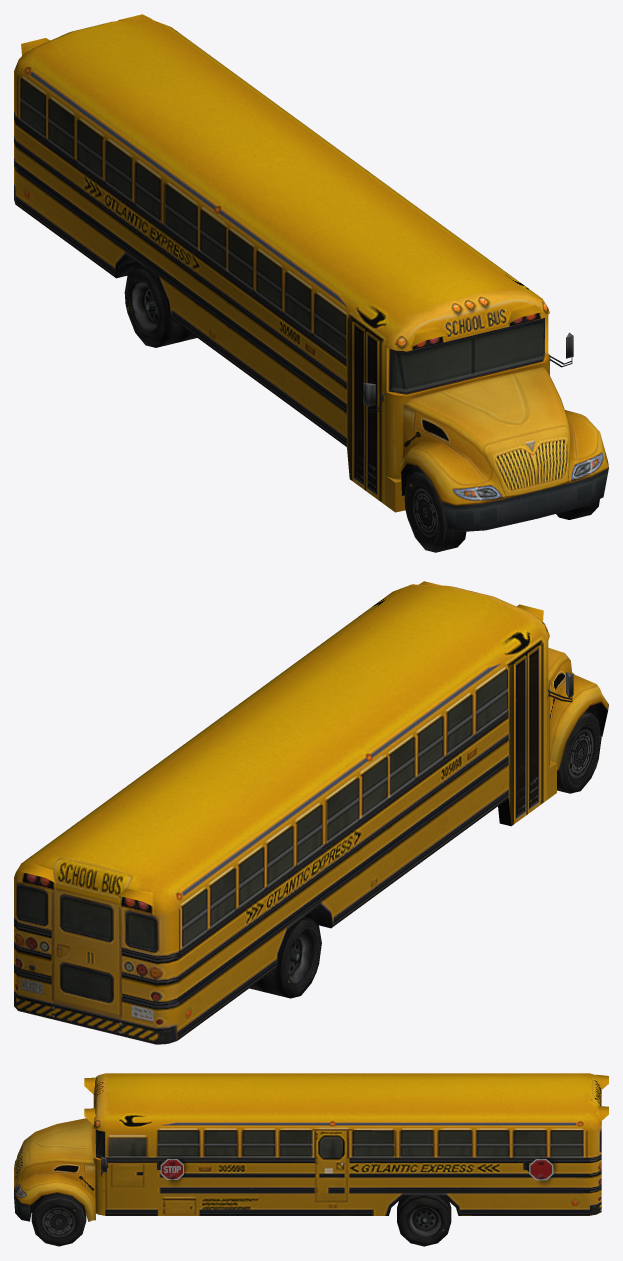
The model's file is School_Bus.fbx.
3 views of the same model, one above another, from view 1: azimuth 30°, elevation 25°; view 2: azimuth 150°, elevation 25°; view 3: azimuth 270°, elevation 25° (orthographic). The views are drawn at different scales.
Visible parts, largest first — view 1: polySurface5, SchoolBus_Wheel_Rear_R, SchoolBus_Wheel_Front_R; view 2: polySurface5, SchoolBus_Wheel_Rear_R, SchoolBus_Wheel_Front_R; view 3: polySurface5, SchoolBus_Wheel_Rear_L, SchoolBus_Wheel_Front_L.
Boxes of the visible parts, x1=… form: polySurface5: x1=14, y1=14, x2=608, y2=531; SchoolBus_Wheel_Rear_R: x1=124, y1=265, x2=196, y2=347; SchoolBus_Wheel_Front_R: x1=404, y1=470, x2=466, y2=552; polySurface5: x1=14, y1=581, x2=608, y2=1044; SchoolBus_Wheel_Rear_R: x1=249, y1=916, x2=321, y2=998; SchoolBus_Wheel_Front_R: x1=557, y1=711, x2=601, y2=793; polySurface5: x1=14, y1=1073, x2=608, y2=1221; SchoolBus_Wheel_Rear_L: x1=397, y1=1195, x2=451, y2=1246; SchoolBus_Wheel_Front_L: x1=31, y1=1192, x2=86, y2=1246.
Bounding box in the file's own units: 5.3 × 5.1 × 20.31.
